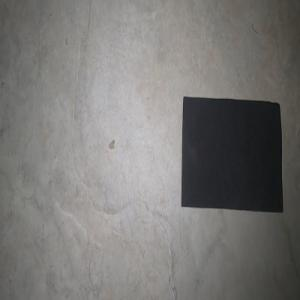PaintChip: (181, 96, 283, 212)
